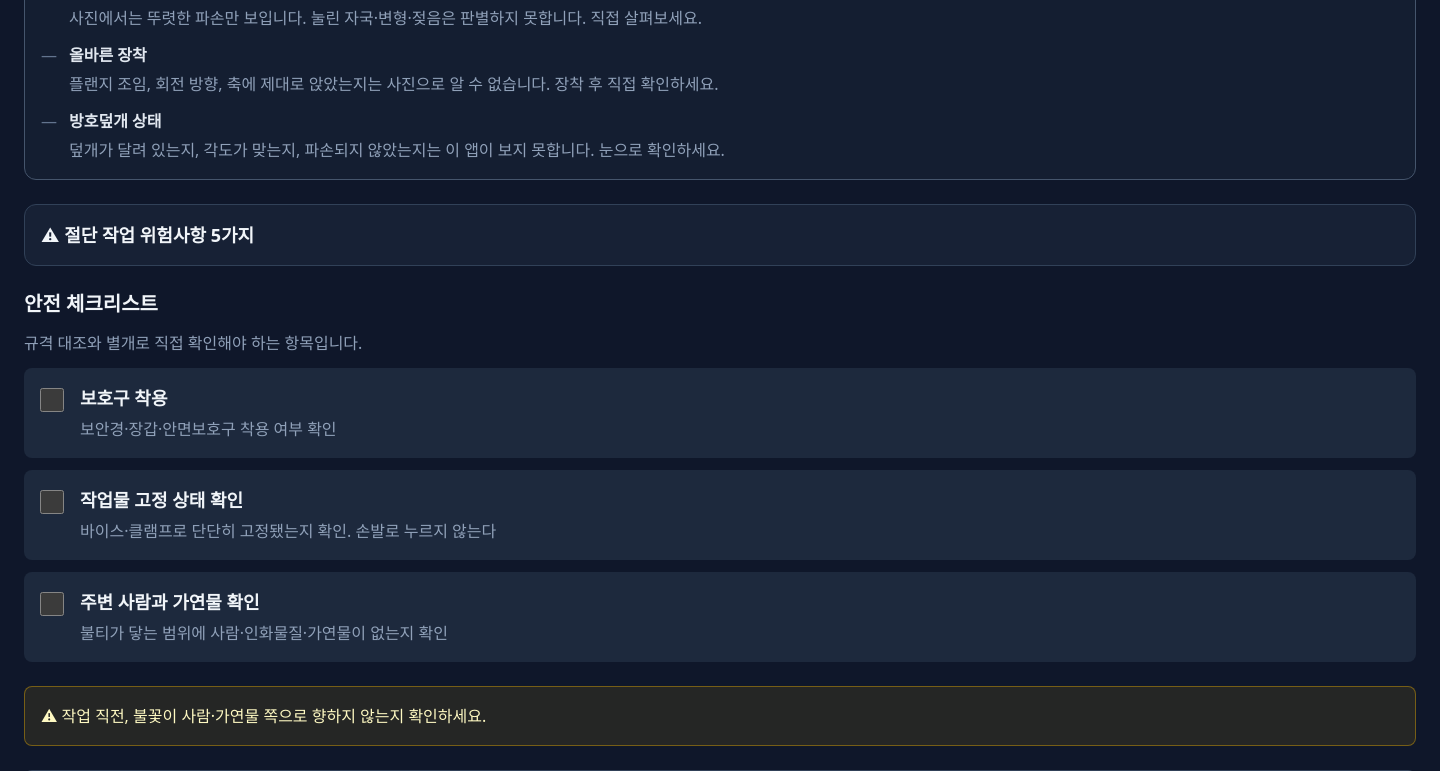
결과 화면 — 시험운전 절차 › 세션에 남은 시험운전은 새로고침 후에도 이어진다
(page scrolled)
Click the checkbox labelled "보호구 착용 보안경·장갑·안면보호구 착용 여부 확인": (52, 400) [40,388,64,412]
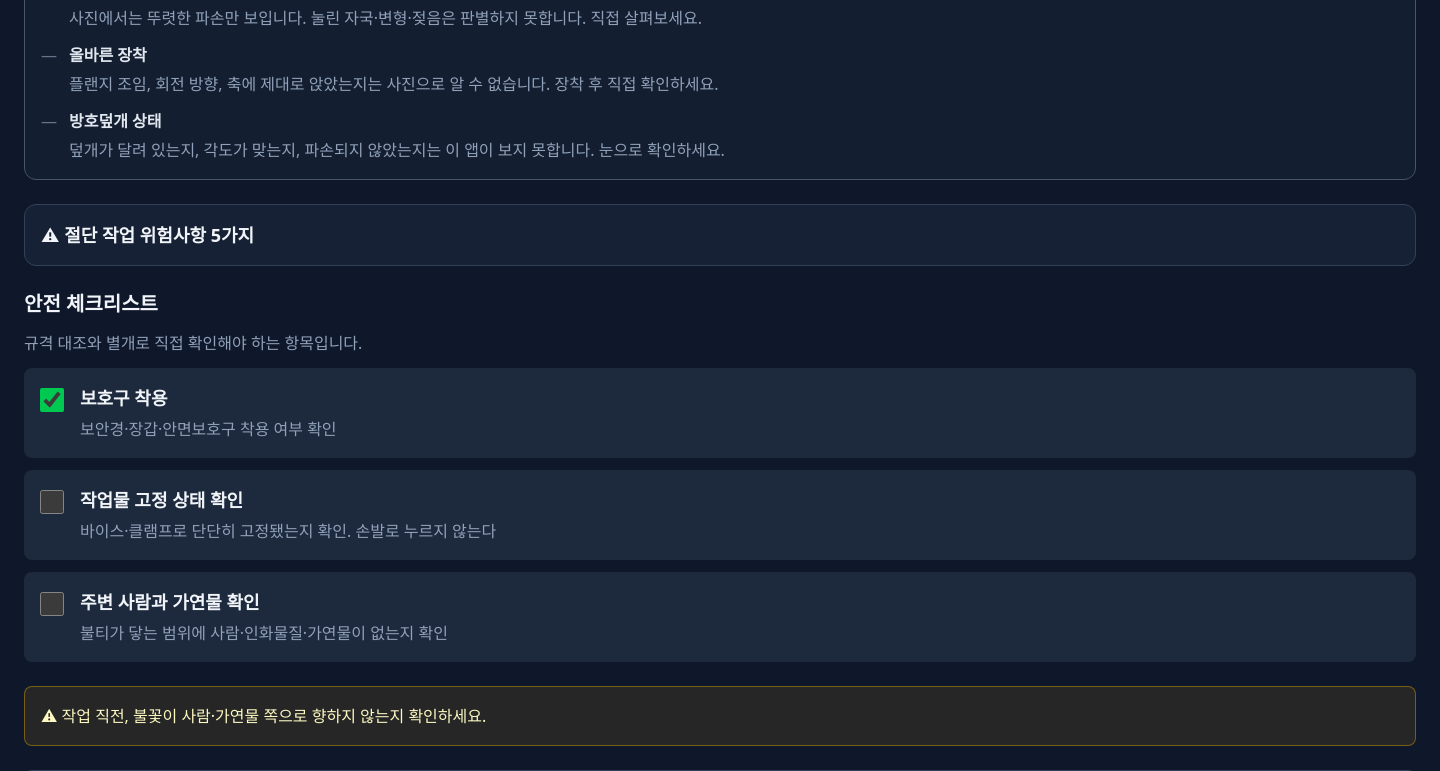
Click the checkbox labelled "작업물 고정 상태 확인 바이스·클램프로 단단히 고정됐는지 확인. 손발로 누르지 않는다": (52, 502) [40,490,64,514]
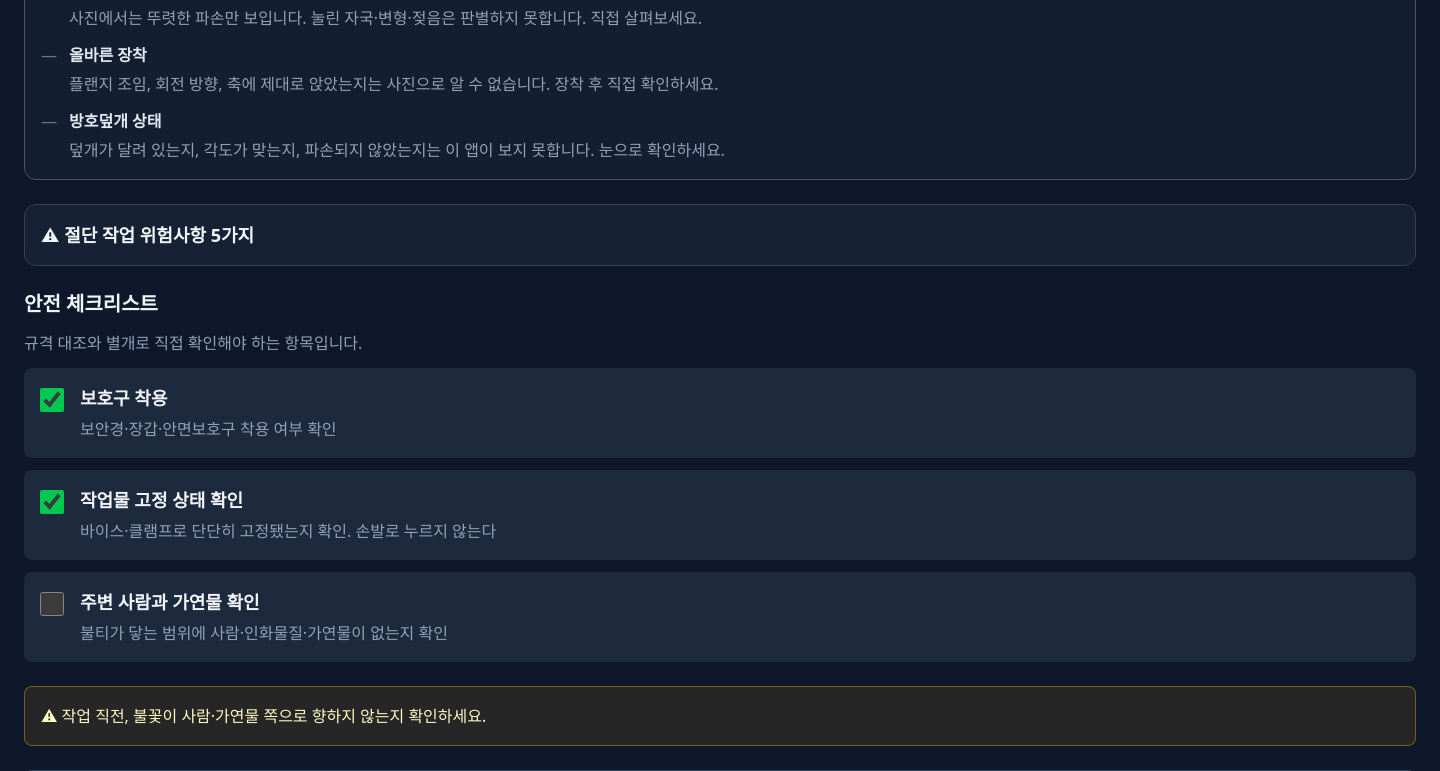
Click the checkbox labelled "주변 사람과 가연물 확인 불티가 닿는 범위에 사람·인화물질·가연물이 없는지 확인": (52, 604) [40,592,64,616]
(page scrolled)
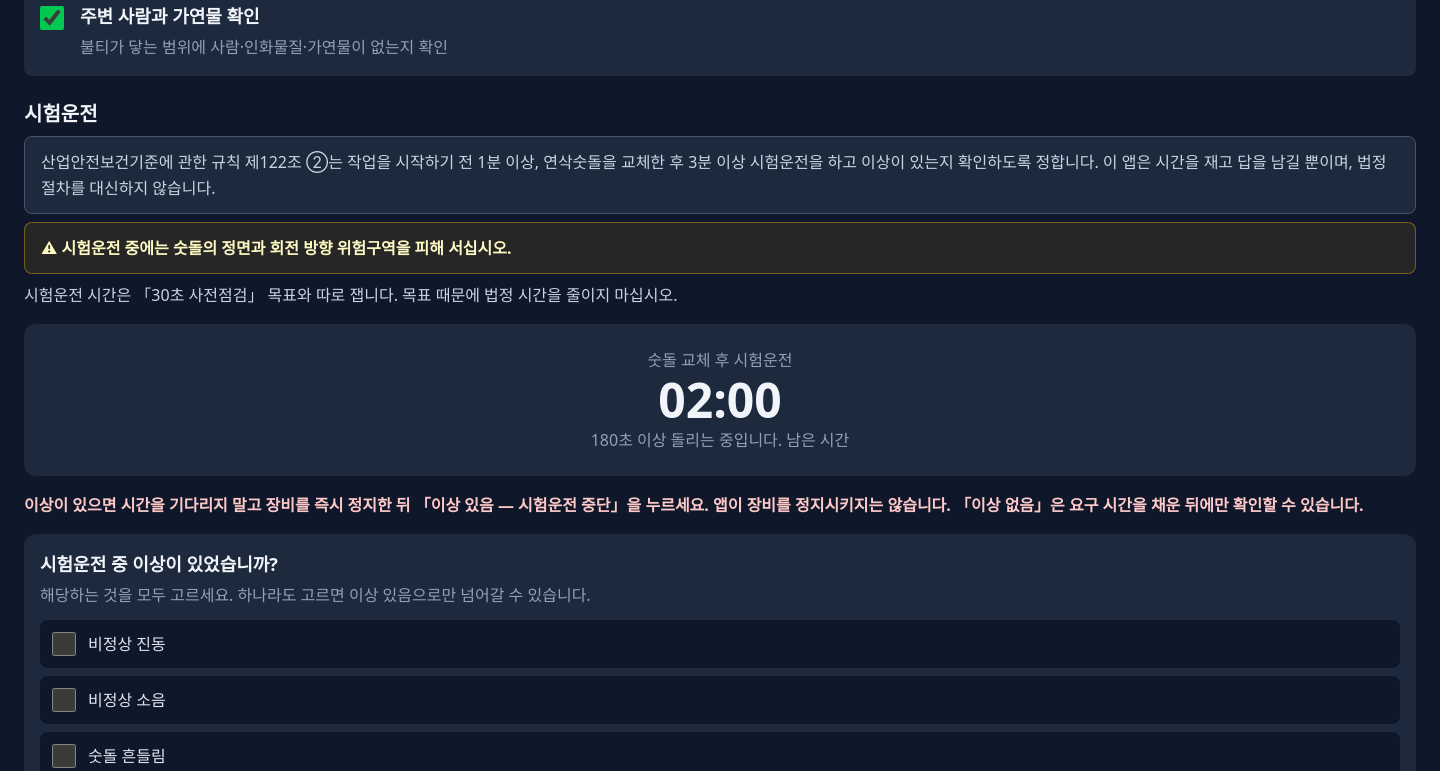
expect the text "숫돌 교체 후 시험운전" is shown: met, box [648,348,792,372]
expect the text "02:00" is shown: met, box [658,376,782,424]
